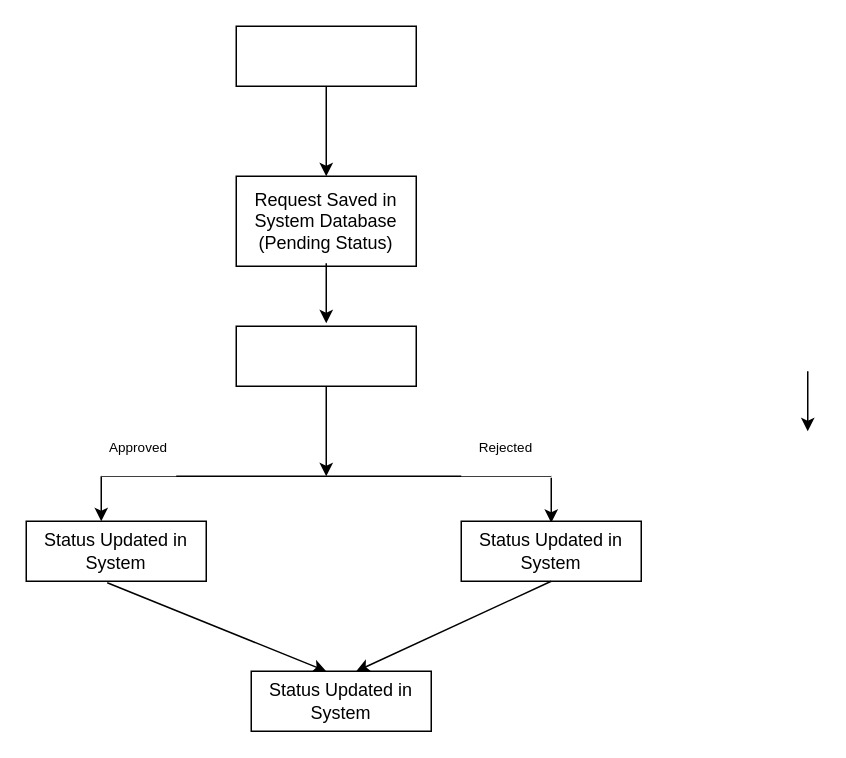
Some shapes in this 846 by 758 pixel diagram are drawn without their labels. The centre of each missing label's shape, as x and y in pixels:
"Email Sent To Approver" belongs at pixel 325 355.
"Pending Status" belongs at pixel 386 430.
"User Submits Request (UI)" belongs at pixel 325 55.
